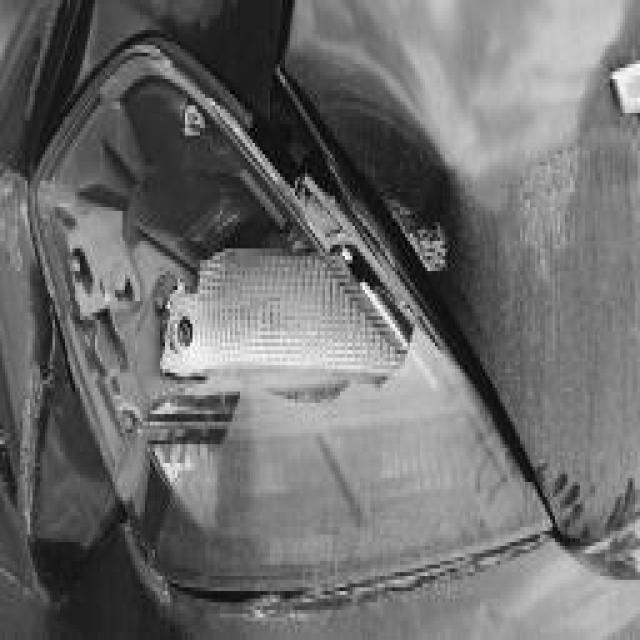Dickey: (330, 4, 608, 233)
Door: (52, 117, 450, 565)
